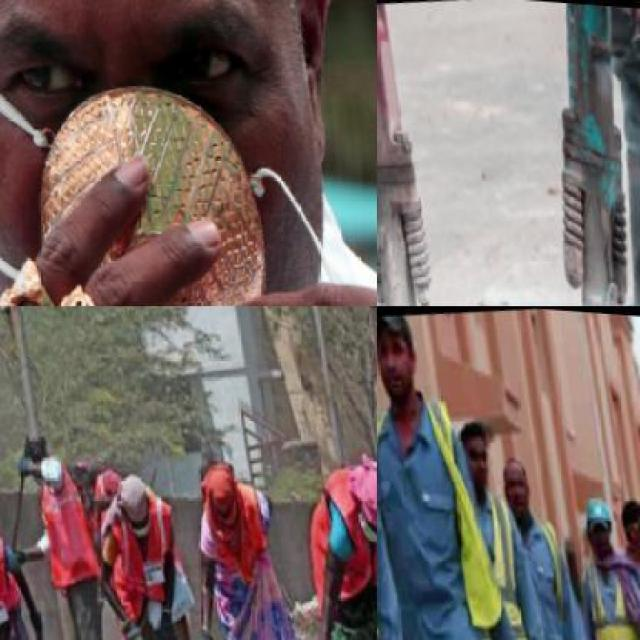vest: (377, 371, 503, 634), (302, 448, 376, 615), (454, 488, 532, 638), (104, 504, 190, 614), (510, 503, 576, 639), (197, 477, 285, 578), (34, 466, 106, 588), (580, 538, 638, 638), (0, 548, 28, 638)
